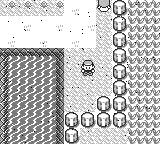captura: (128, 0, 160, 144), (8, 57, 56, 144)
main: (81, 60, 95, 77)
mo: (1, 48, 64, 143)
no-caminable: (64, 0, 127, 143)
npc: (97, 0, 111, 12)
